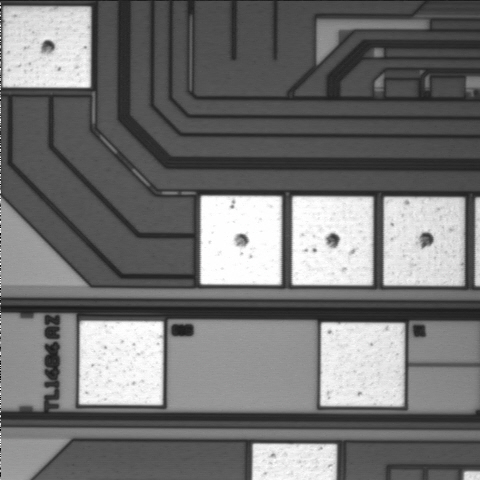pad: (200, 196, 282, 285), (292, 196, 373, 285), (3, 7, 91, 88), (384, 197, 464, 286), (79, 321, 163, 405), (320, 323, 405, 406)
